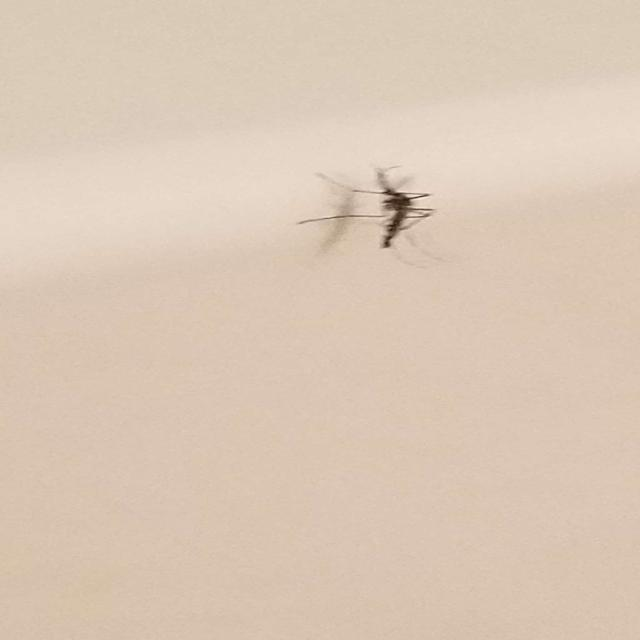aegypti: (297, 158, 449, 250)
